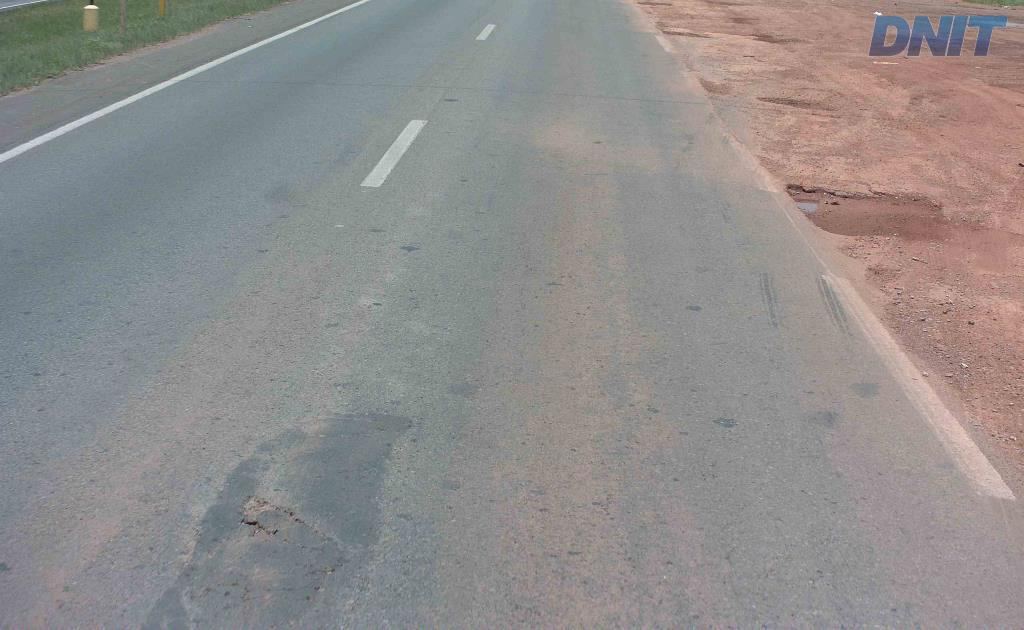crack: (232, 495, 279, 536)
